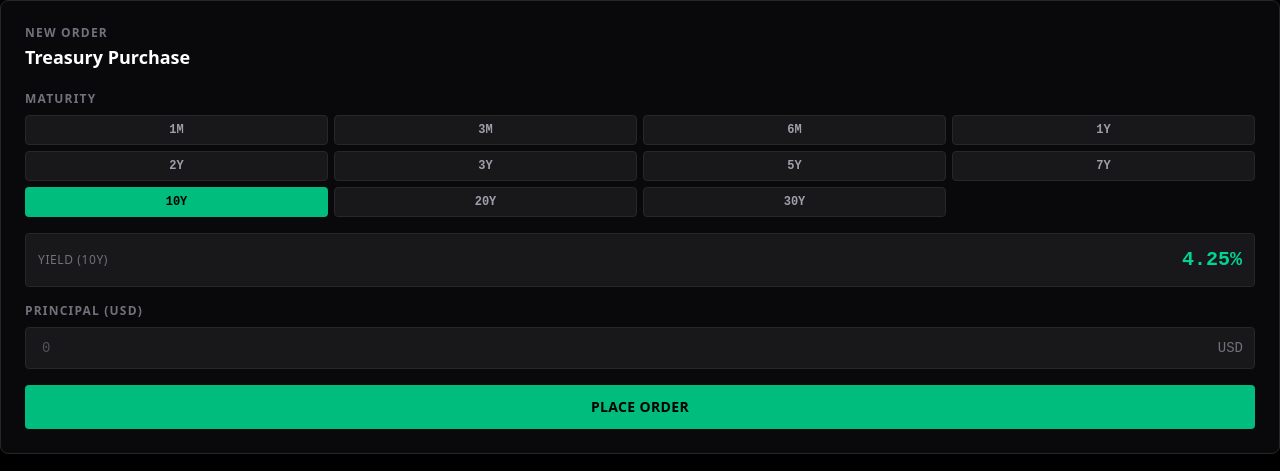
Scenario: OrderForm › term selection › updates the yield preview when switching terms
What coordinates should you click on to do the following:
click the button "1M"
I would click on:
 (176, 130)
Its box is [25,115,328,145].
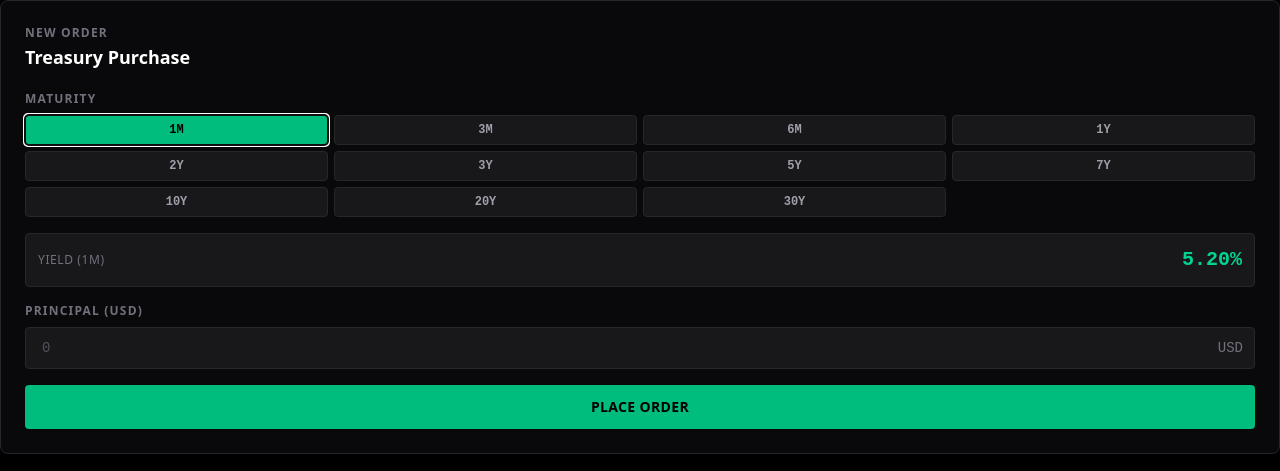
Expected: the text "5.20%" is shown, [1182,246,1242,274]
